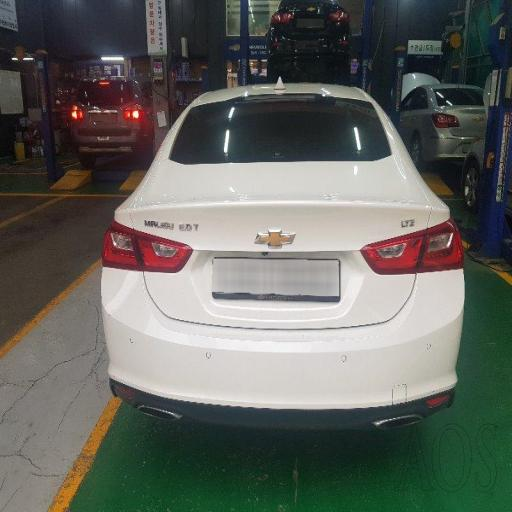dent: (141, 309, 363, 377)
